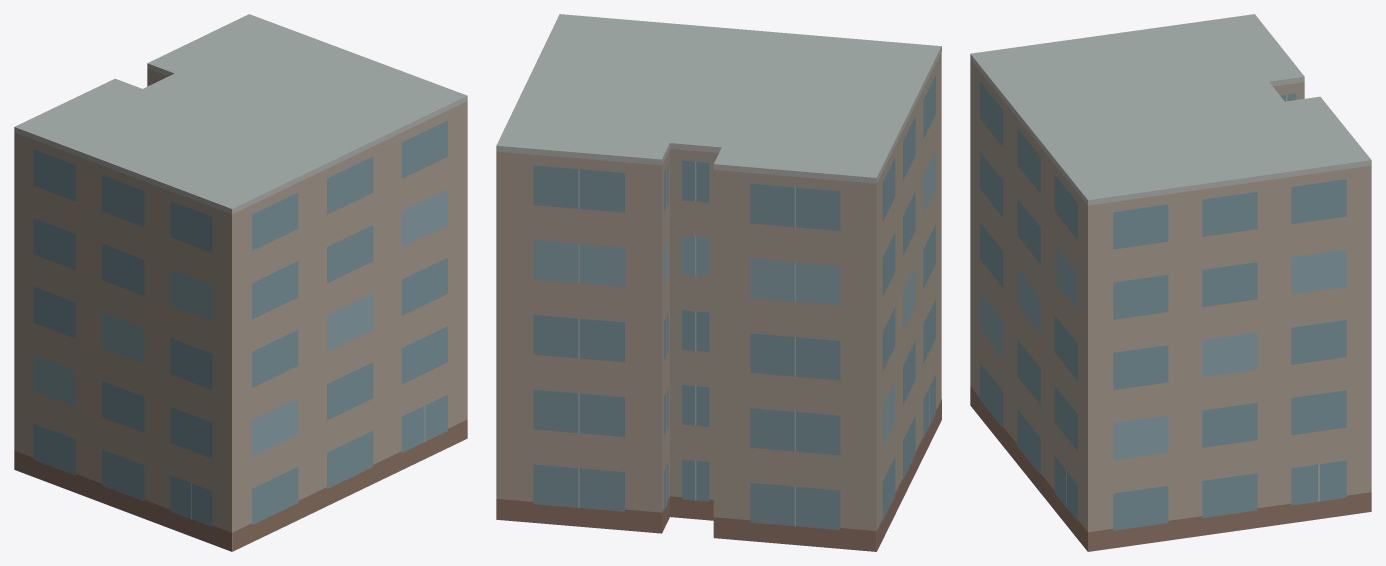
Rendered from survey-upis-32692463.glb.
3 views of the same model, side by side, from view 1: azimuth 30°, elevation 25°; view 2: azimuth 150°, elevation 25°; view 3: azimuth 270°, elevation 25° (orthographic). The views are drawn at different scales.
Visible parts, largest first — view 1: survey-upis-32692463.tmp; view 2: survey-upis-32692463.tmp; view 3: survey-upis-32692463.tmp.
Boxes of the visible parts, x1,y1,x2,y2 form: survey-upis-32692463.tmp: (14,14,467,551); survey-upis-32692463.tmp: (496,14,941,551); survey-upis-32692463.tmp: (970,14,1371,551).
Bounding box in the file's own units: 17.96 × 15.8 × 16.35.
